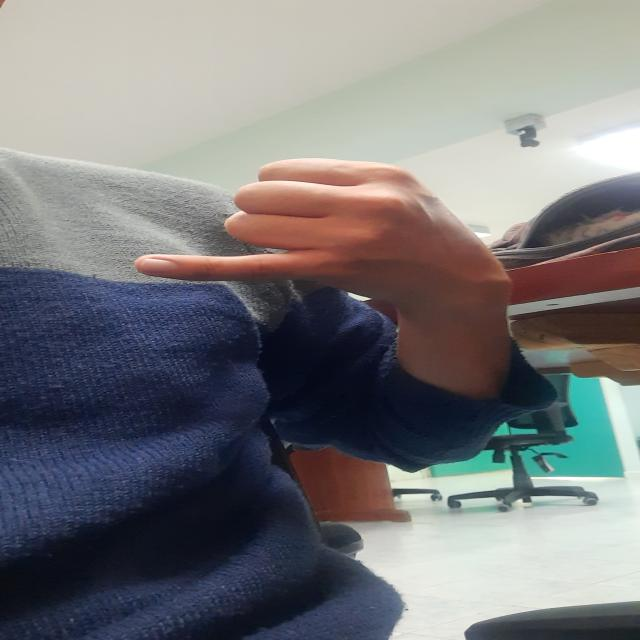J: (129, 159, 478, 284)
